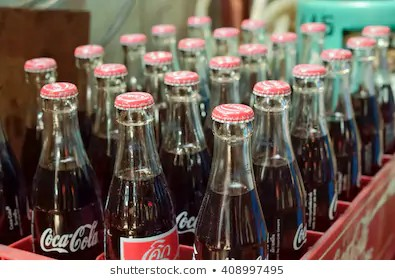coke-glass-bottle: (23, 82, 101, 253), (99, 91, 176, 257), (188, 107, 269, 258), (253, 80, 315, 258), (295, 55, 347, 235), (166, 74, 200, 247)
